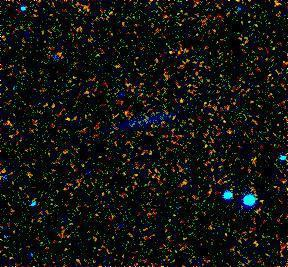star: (164, 81, 194, 111)
